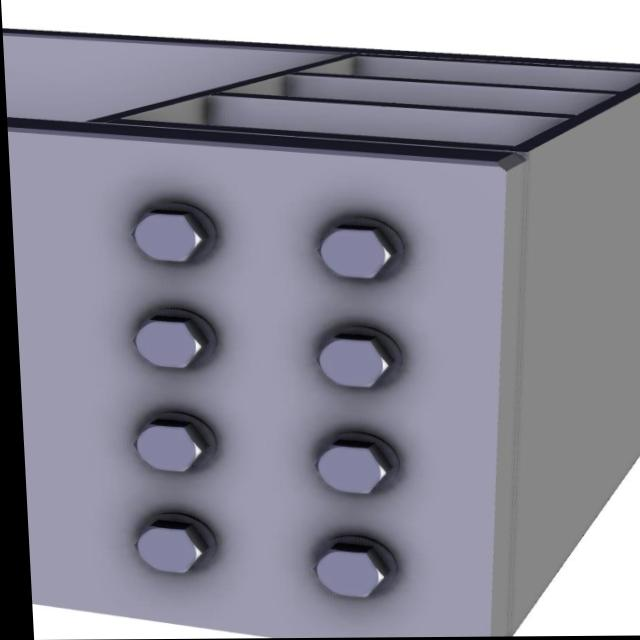Regular bolt: (313, 334, 393, 390), (305, 547, 386, 601), (126, 521, 205, 576), (320, 223, 394, 281), (129, 317, 206, 370), (311, 441, 385, 496), (131, 210, 207, 263), (130, 421, 206, 474)
